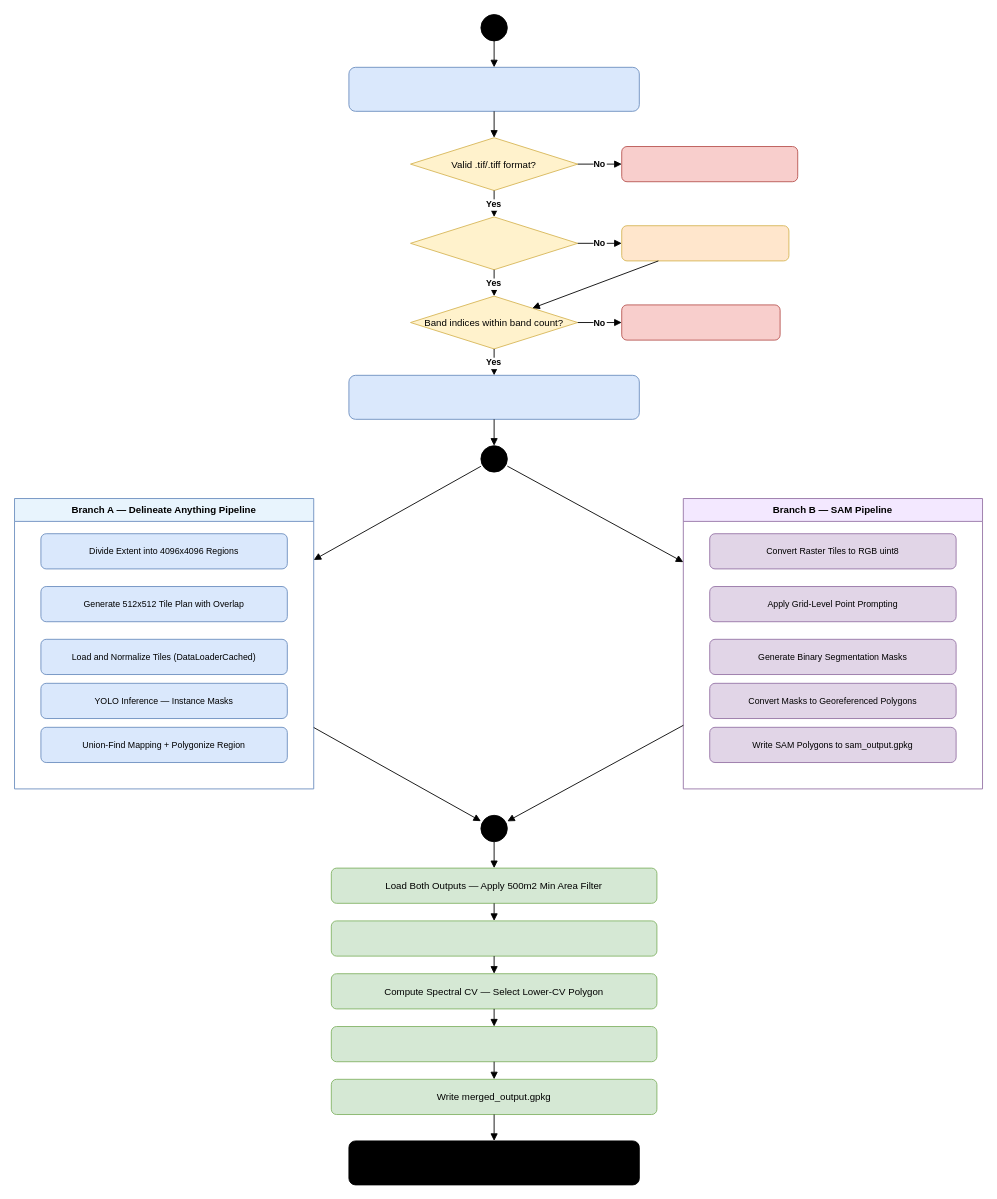
The diagram is 997 pixels wide and 1199 high, and some of its shapes have lost their labels. The centre of each missing label's shape, as x and y in pixels:
"Compute Normalization Bounds per Band" goes at pixel 493 396.
"CRS consistent across all files?" goes at pixel 494 243.
"Detect Pairwise Overlaps (IoU greater than 0.1)" goes at pixel 493 938.
"Load GeoTIFF Satellite Imagery and YAML Configs" goes at pixel 493 88.
"Load in QGIS for Validation" goes at pixel 493 1162.
"Raise FileFormatError — Exit" goes at pixel 709 164.
"Raise ValueError — Exit" goes at pixel 700 322.
"Reproject to Common CRS" goes at pixel 705 243.
"Watershed Gap Closing — Spatial Batch Processing" goes at pixel 493 1044.
